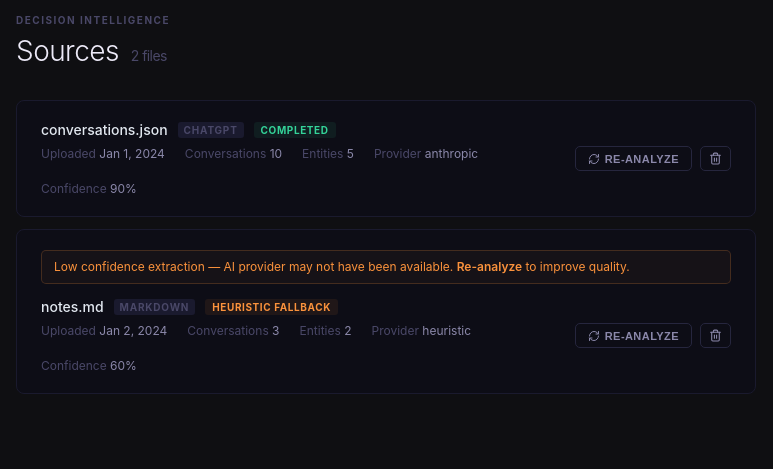
Test: SourcesPage › deletes a source after inline confirmation
Expected: the text "conversations.json" is shown, [41,121,168,138]
# click trash icon — shows inline confirmation, does NOT delete yet
Click the button titled "Delete source and all entities" in the row of "anthropic". click: (716,158)
box: [700,146,731,171]
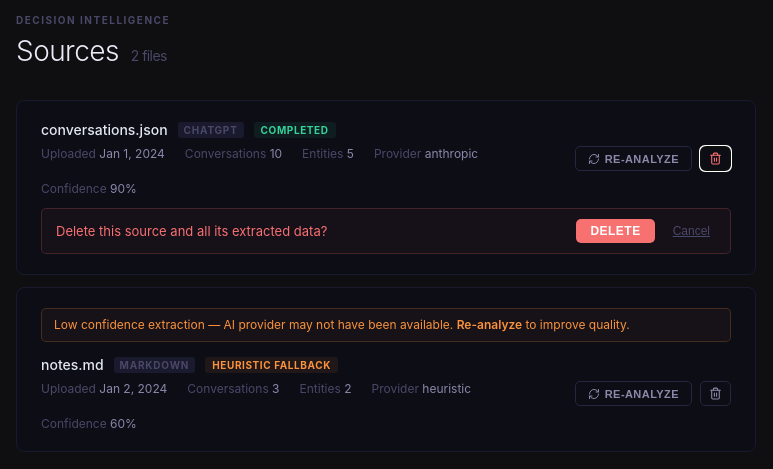
# click the red "Delete" confirm button
Click the button "Delete". click: (616,231)
box: [576,219,655,243]
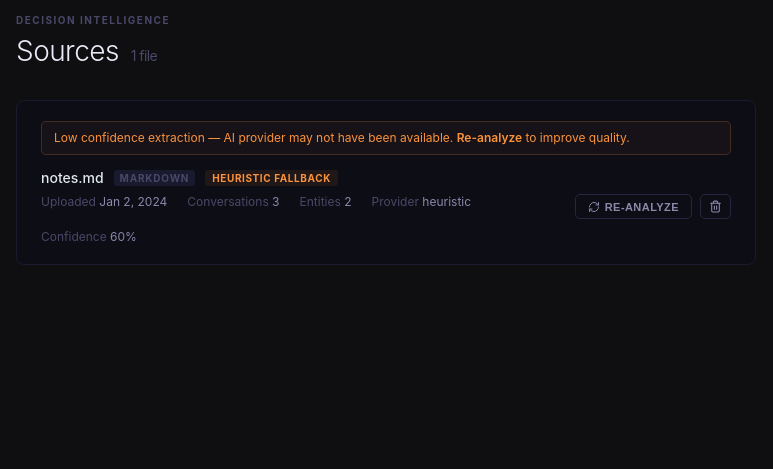
Expected: the text "notes.md" is shown, [41,169,104,186]
Expected: the text "conversations.json" is gone
